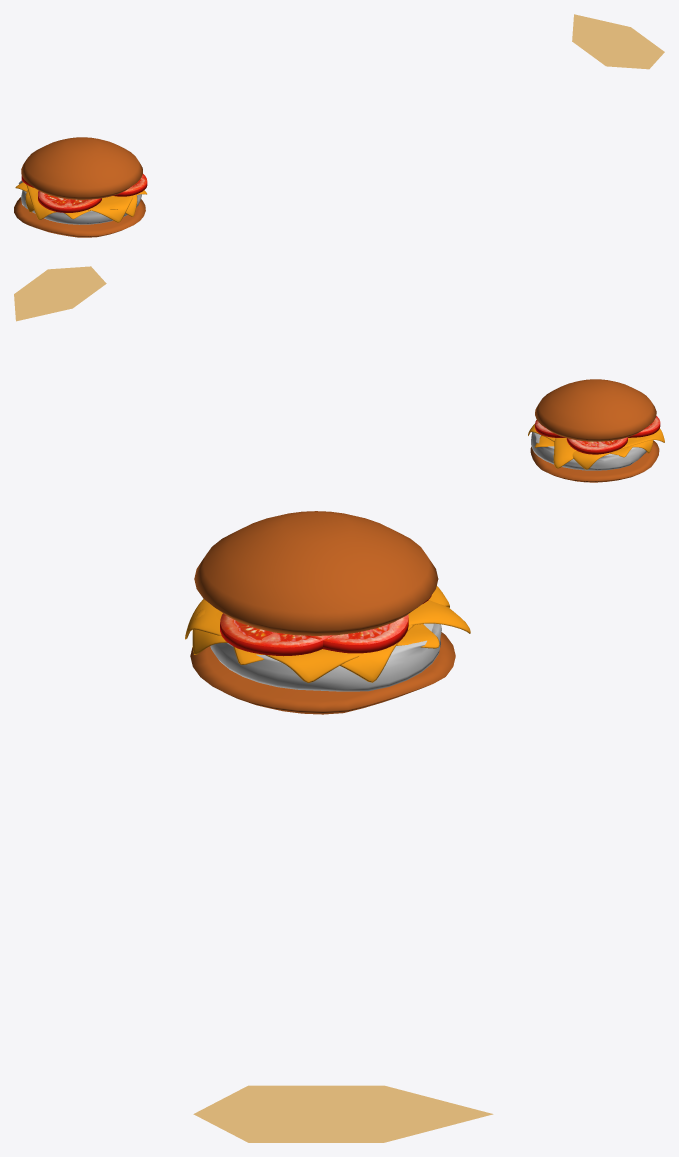
The model's file is BurgerCompletePlain.gltf.
The picture shows the model from 3 angles, top to bottom: view 1: azimuth 30°, elevation 25°; view 2: azimuth 150°, elevation 25°; view 3: azimuth 270°, elevation 25°; orthographic projection. The views are drawn at different scales.
Parts seen in each view (by area): view 1: Top Bun, Seeds, Bottom Bun, Tomato, Patty, Cheese1, Cheese2; view 2: Top Bun, Seeds, Bottom Bun, Patty, Cheese2, Tomato.002, Cheese1; view 3: Top Bun, Seeds, Bottom Bun, Patty, Cheese1, Tomato.003, Cheese2, Tomato.001, Cheese3.
Part boxes in pixels (left/top/right/bottom): Top Bun: left=21, top=137, right=142, bottom=199; Seeds: left=572, top=14, right=664, bottom=69; Bottom Bun: left=14, top=197, right=145, bottom=237; Tomato: left=38, top=191, right=101, bottom=212; Patty: left=18, top=180, right=141, bottom=224; Cheese1: left=25, top=190, right=133, bottom=222; Cheese2: left=26, top=184, right=137, bottom=219; Top Bun: left=535, top=379, right=656, bottom=441; Seeds: left=14, top=266, right=106, bottom=321; Bottom Bun: left=530, top=440, right=659, bottom=482; Patty: left=531, top=432, right=646, bottom=470; Cheese2: left=528, top=424, right=664, bottom=469; Tomato.002: left=566, top=437, right=627, bottom=454; Cheese1: left=553, top=437, right=653, bottom=468; Top Bun: left=194, top=511, right=438, bottom=635; Seeds: left=193, top=1085, right=493, bottom=1142; Bottom Bun: left=190, top=632, right=455, bottom=714; Patty: left=210, top=623, right=441, bottom=691; Cheese1: left=185, top=599, right=470, bottom=682; Tomato.003: left=220, top=613, right=332, bottom=656; Cheese2: left=192, top=586, right=449, bottom=682; Tomato.001: left=307, top=614, right=408, bottom=653; Cheese3: left=233, top=624, right=439, bottom=664.
Size of the model in its own units: 21.17 by 2.43 by 4.55.
